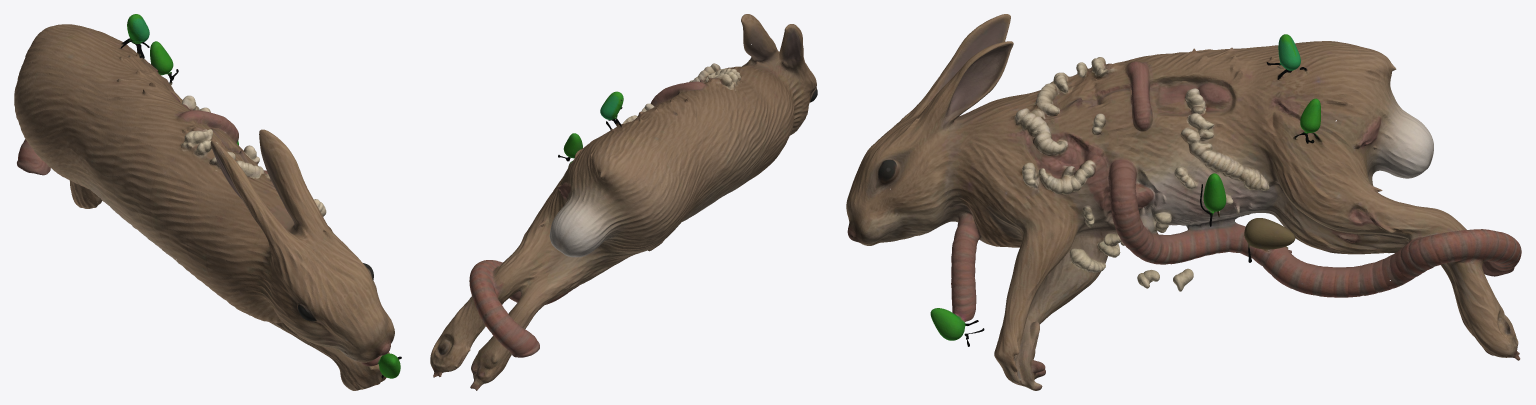
The model's file is dead-rabbit.glb.
The picture shows the model from 3 angles, left to right: view 1: azimuth 30°, elevation 25°; view 2: azimuth 150°, elevation 25°; view 3: azimuth 270°, elevation 25°; orthographic projection. The views are drawn at different scales.
Parts seen in each view (by area): view 1: tripo_node_66547c0c-5ff5-4b59-8233-527ecd14235b; view 2: tripo_node_66547c0c-5ff5-4b59-8233-527ecd14235b; view 3: tripo_node_66547c0c-5ff5-4b59-8233-527ecd14235b.
Boxes of the visible parts, bbox=[...] form: tripo_node_66547c0c-5ff5-4b59-8233-527ecd14235b: bbox=[14, 14, 401, 390]; tripo_node_66547c0c-5ff5-4b59-8233-527ecd14235b: bbox=[430, 14, 817, 390]; tripo_node_66547c0c-5ff5-4b59-8233-527ecd14235b: bbox=[846, 14, 1521, 390].
Size of the model in its own units: 0.3575 by 0.4946 by 0.998.
1 material, 1 textured.
